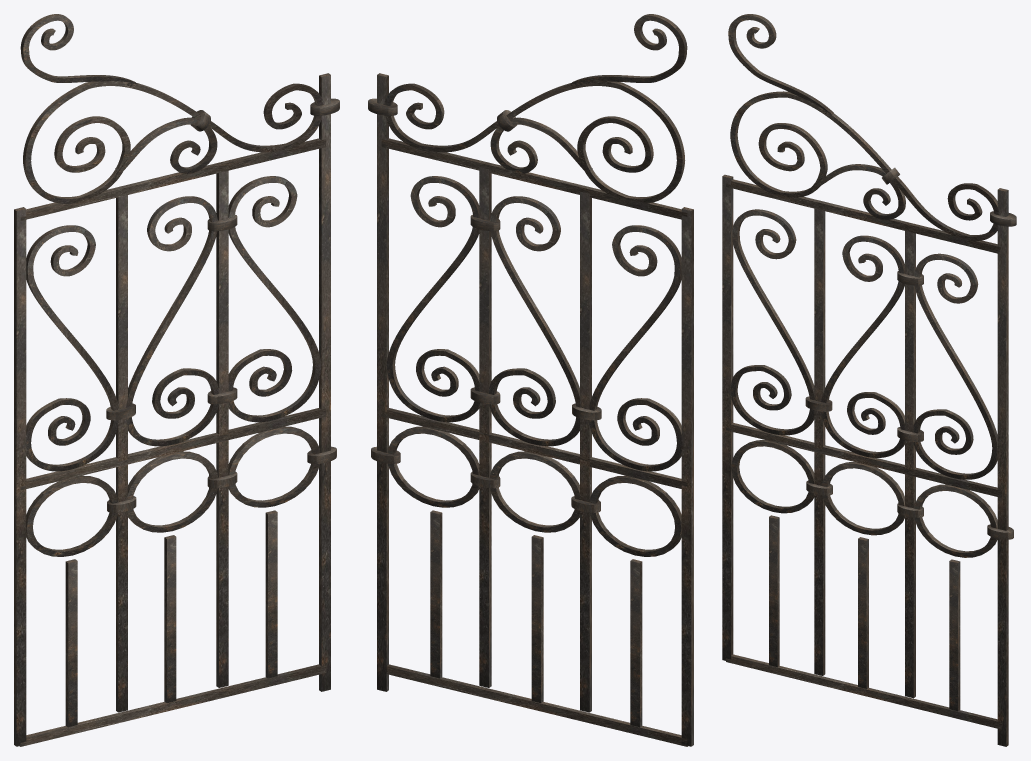
File: reja.obj
The picture shows the model from 3 angles, left to right: view 1: azimuth 30°, elevation 25°; view 2: azimuth 150°, elevation 25°; view 3: azimuth 330°, elevation 25°; orthographic projection. The views are drawn at different scales.
Visible parts, largest first — view 1: puertaizquierda; view 2: puertaizquierda; view 3: puertaizquierda.
Boxes of the visible parts, box(x1,y1,x2,y2) form: puertaizquierda: box(14, 14, 339, 746); puertaizquierda: box(368, 14, 693, 746); puertaizquierda: box(722, 14, 1016, 746).
Size of the model in its own units: 11.54 by 25.23 by 0.5518.
1 material, 1 textured.
